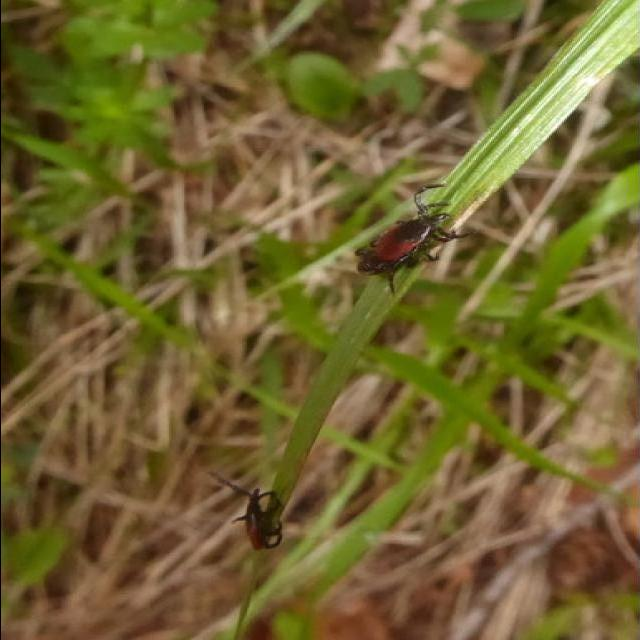Ixodes Ricinus-F: (358, 211, 448, 282)
